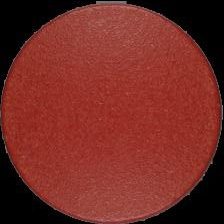33261-896: (0, 0, 224, 224)
